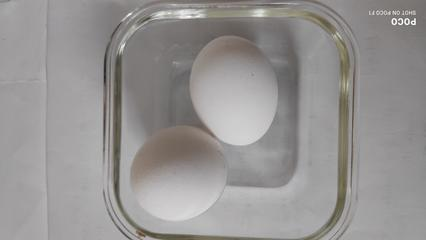eggs: (185, 38, 286, 151), (121, 119, 225, 216)
